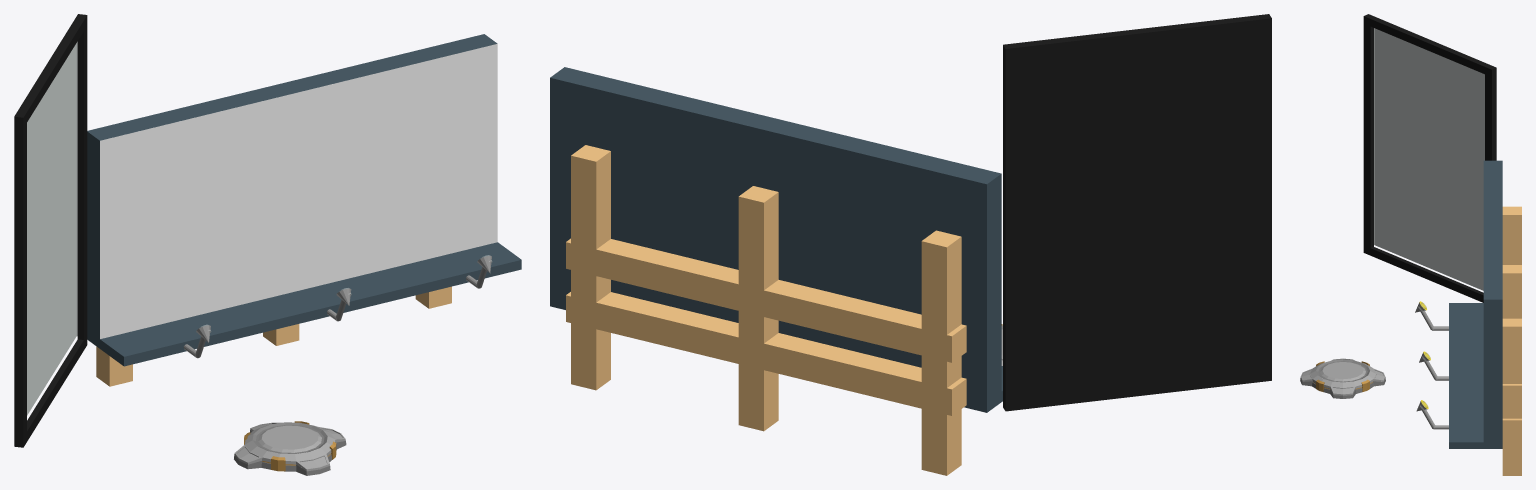
The model's file is billboardSet3.glb.
3 views of the same model, side by side, from view 1: azimuth 30°, elevation 25°; view 2: azimuth 150°, elevation 25°; view 3: azimuth 270°, elevation 25° (orthographic). The views are drawn at different scales.
Parts seen in each view (by area): view 1: billboard.001, billboard, sidescreen, sidescreenScreen, Props_Base; view 2: billboard, sidescreenScreen; view 3: sidescreen, billboard, sidescreenScreen, Props_Base.
Boxes of the visible parts, x1,y1,x2,y2 form: billboard.001: (100, 44, 497, 338); billboard: (87, 34, 521, 386); sidescreen: (27, 41, 77, 415); sidescreenScreen: (14, 14, 87, 447); Props_Base: (234, 421, 346, 475); billboard: (550, 67, 1002, 475); sidescreenScreen: (1003, 14, 1271, 411); sidescreen: (1374, 28, 1484, 290); billboard: (1415, 160, 1521, 475); sidescreenScreen: (1363, 14, 1496, 302); Props_Base: (1300, 358, 1385, 398).
Bounding box in the file's own units: 1.22 × 0.7963 × 0.5787.
